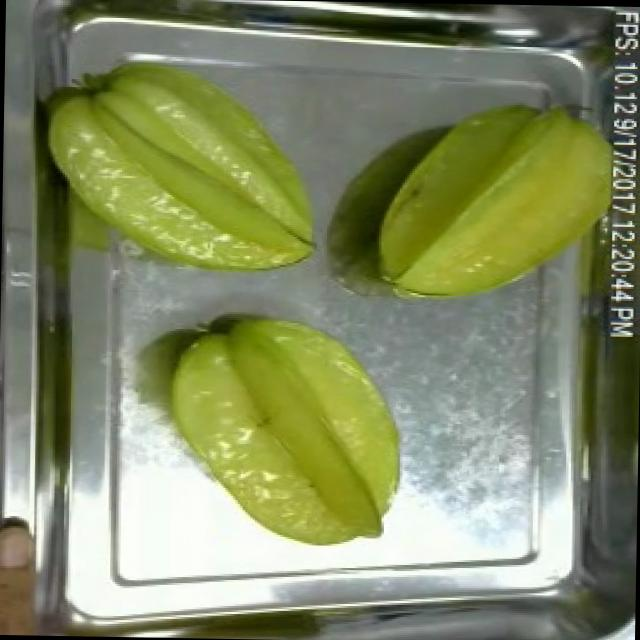fruit: (35, 49, 337, 282), (160, 302, 410, 558), (362, 91, 622, 309)
